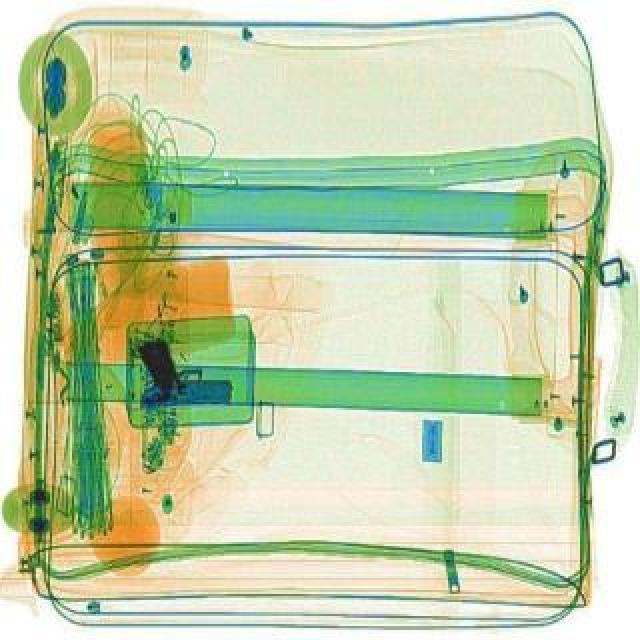gun: (136, 332, 232, 404)
